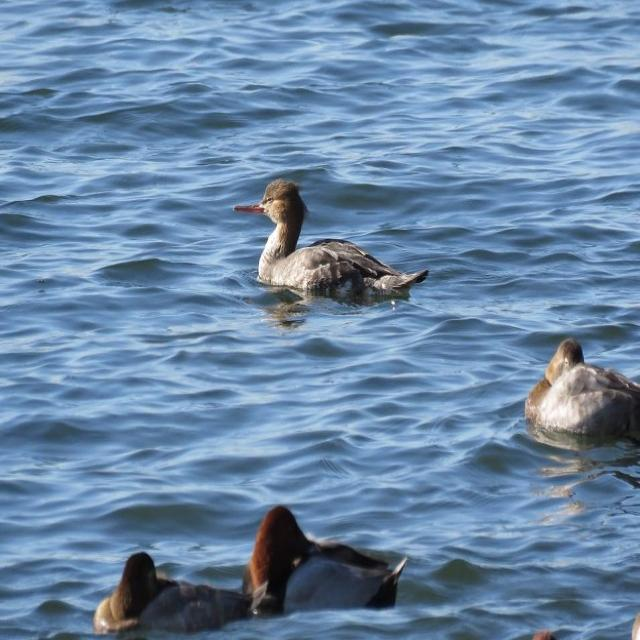bird: (233, 181, 422, 306), (247, 502, 410, 612), (86, 546, 251, 640), (523, 340, 640, 446)
